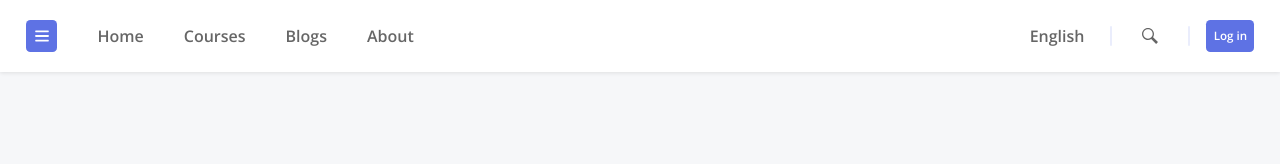
it: Dropdowns › Language dropdown opens and closes on button click
This screenshot has width=1280, height=164.
# Click language button and expect language dropdown to appear
Click the element with test id "language-button" at (1057, 36), box [1030, 25, 1084, 47]
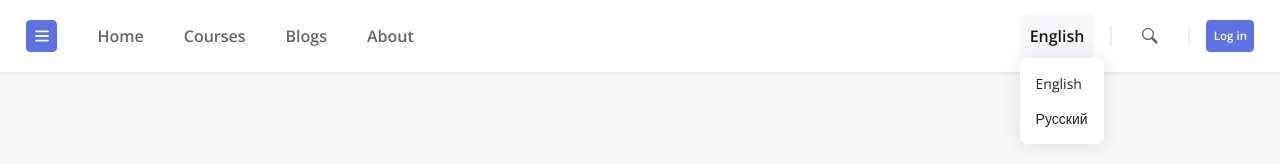
Now the element with test id "language-dropdown" is shown, box [1020, 58, 1104, 144]
# Click language button and expect language dropdown to disappear
Click the element with test id "language-button" at (1057, 36), box [1020, 14, 1094, 58]
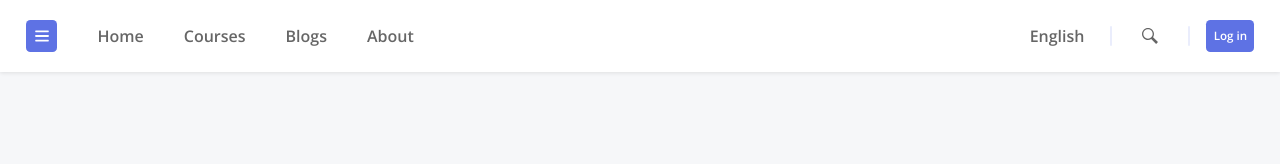
Now the element with test id "language-dropdown" is gone
